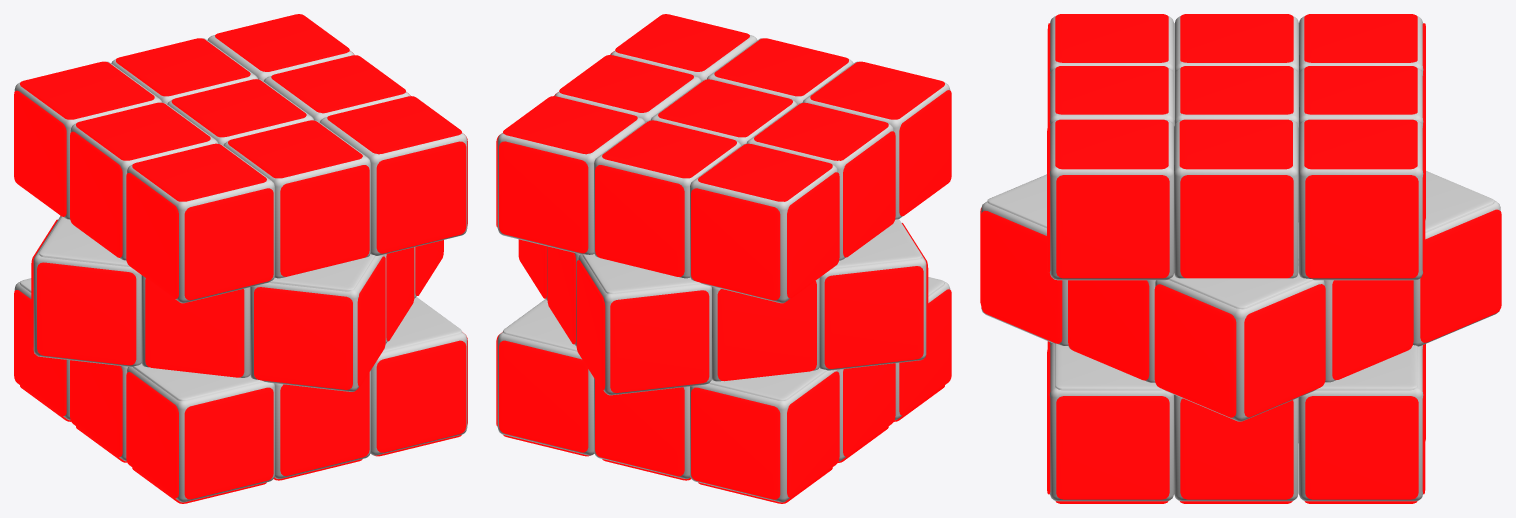
The model's file is rubik_emit_rojo1.fbx.
3 views of the same model, side by side, from view 1: azimuth 30°, elevation 25°; view 2: azimuth 150°, elevation 25°; view 3: azimuth 270°, elevation 25° (orthographic). The views are drawn at different scales.
Visible parts, largest first — view 1: ChamferBox013, ChamferBox022, ChamferBox095, ChamferBox090, ChamferBox010, ChamferBox030, ChamferBox042, ChamferBox019, ChamferBox066, ChamferBox029, ChamferBox009, ChamferBox002 (+34 smaller); view 2: ChamferBox014, ChamferBox089, ChamferBox024, ChamferBox003, ChamferBox036, ChamferBox079, ChamferBox099, ChamferBox047, ChamferBox057, ChamferBox031, ChamferBox002, ChamferBox005 (+34 smaller); view 3: ChamferBox074, ChamferBox076, ChamferBox068, ChamferBox073, ChamferBox070, ChamferBox069, ChamferBox080, ChamferBox075, ChamferBox071, ChamferBox023, ChamferBox056, ChamferBox072 (+33 smaller).
Part boxes in pixels (x1,y1,x2,y2): ChamferBox013: (37,262,136,365); ChamferBox022: (254,287,352,389); ChamferBox095: (376,141,466,253); ChamferBox090: (376,340,466,452); ChamferBox010: (184,188,273,300); ChamferBox030: (184,387,273,499); ChamferBox042: (280,165,369,276); ChamferBox019: (145,278,244,377); ChamferBox066: (280,372,369,475); ChamferBox029: (126,372,178,498); ChamferBox009: (126,173,178,298); ChamferBox002: (14,90,66,216); ChamferBox014: (824,266,923,368); ChamferBox089: (610,290,709,392); ChamferBox024: (691,387,780,499); ChamferBox003: (691,188,780,300); ChamferBox036: (595,165,684,276); ChamferBox079: (499,141,588,253); ChamferBox099: (499,340,588,452); ChamferBox047: (717,281,816,381); ChamferBox057: (595,380,684,476); ChamferBox031: (787,371,839,497); ChamferBox002: (787,172,839,298); ChamferBox005: (843,131,895,257); ChamferBox074: (1180,175,1293,278); ChamferBox076: (1305,175,1418,278); ChamferBox068: (1056,175,1169,278); ChamferBox073: (1305,396,1418,499); ChamferBox070: (1056,396,1169,499); ChamferBox069: (1180,398,1293,499); ChamferBox080: (1154,284,1236,417); ChamferBox075: (1244,284,1325,417); ChamferBox071: (1420,209,1501,342); ChamferBox023: (981,210,1062,343); ChamferBox056: (1068,280,1149,380); ChamferBox072: (1332,280,1413,379).
Size of the model in its own units: 10.04 by 7.2 by 10.05.
